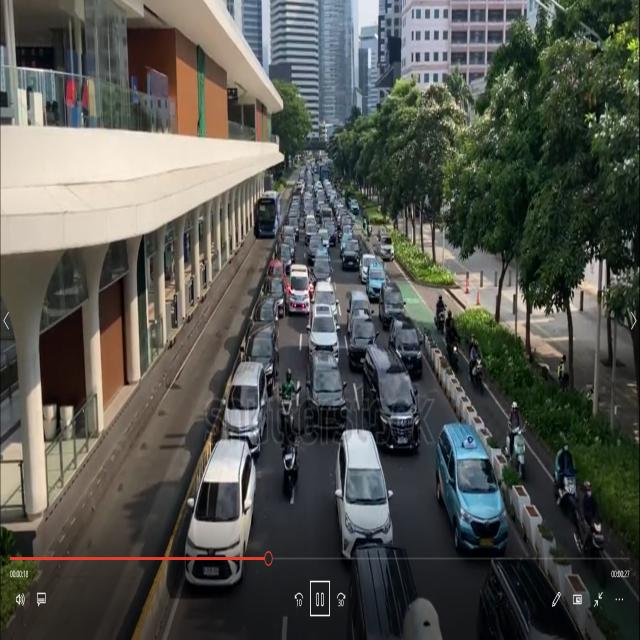Ambulance: (281, 255, 318, 326)
